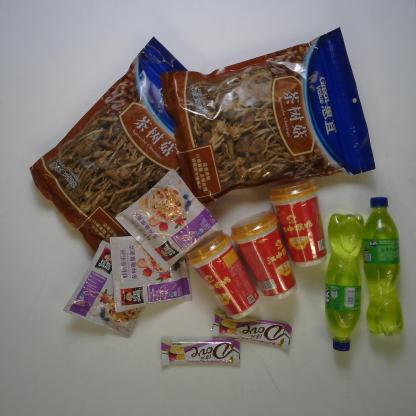Chocolate: (204, 309, 296, 353), (156, 335, 242, 371)
Dried Food: (27, 34, 243, 280), (160, 22, 378, 218)
Drink: (359, 193, 407, 340), (322, 209, 366, 355)
Instant Drink: (114, 169, 226, 278), (59, 238, 162, 338), (182, 228, 262, 323), (108, 229, 194, 314), (227, 207, 298, 303), (266, 175, 330, 270)
